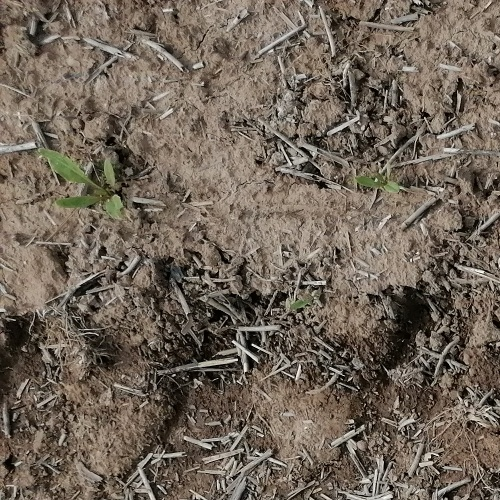beet: (36, 147, 126, 225), (354, 171, 401, 196)
